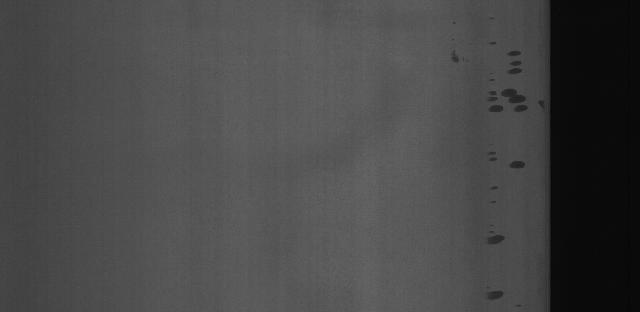oil_spot: (484, 82, 541, 119), (484, 148, 507, 208), (492, 41, 524, 77), (483, 223, 510, 248), (484, 287, 511, 311), (446, 43, 474, 66), (505, 158, 528, 176)
